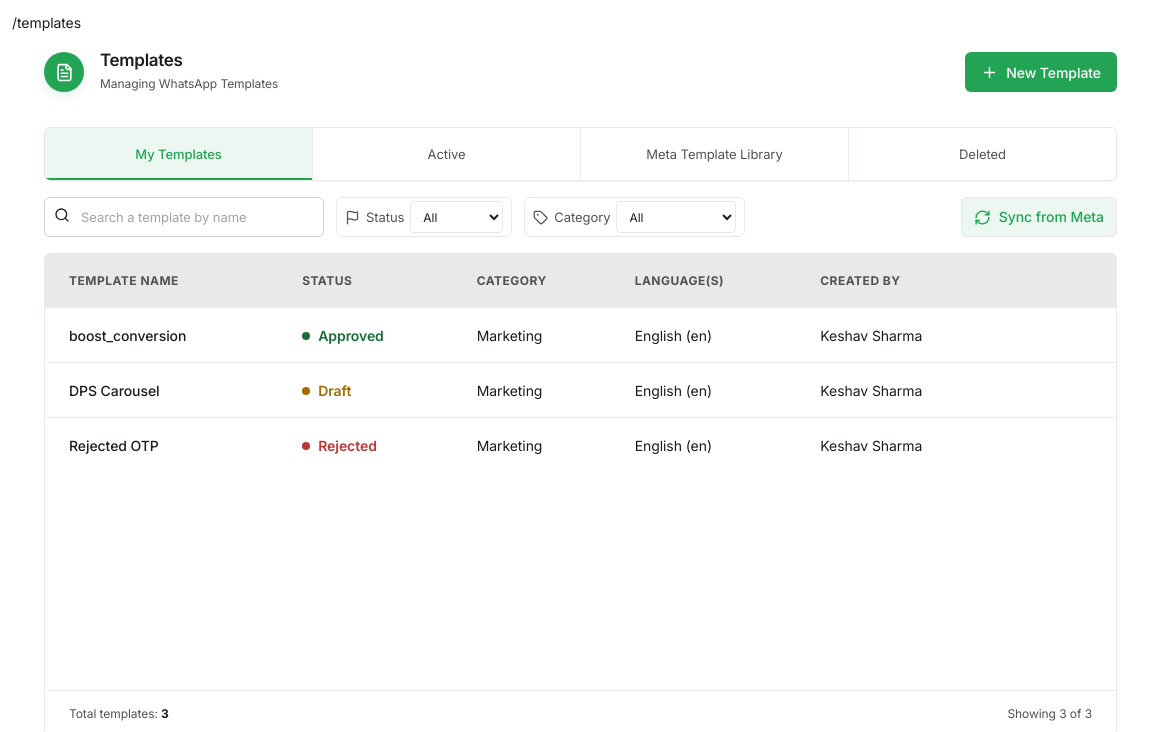
it: Templates › shows the Meta sync diagnostic when no templates are returned
Click the button "Sync from Meta": x=1039, y=217 [961,197,1117,237]
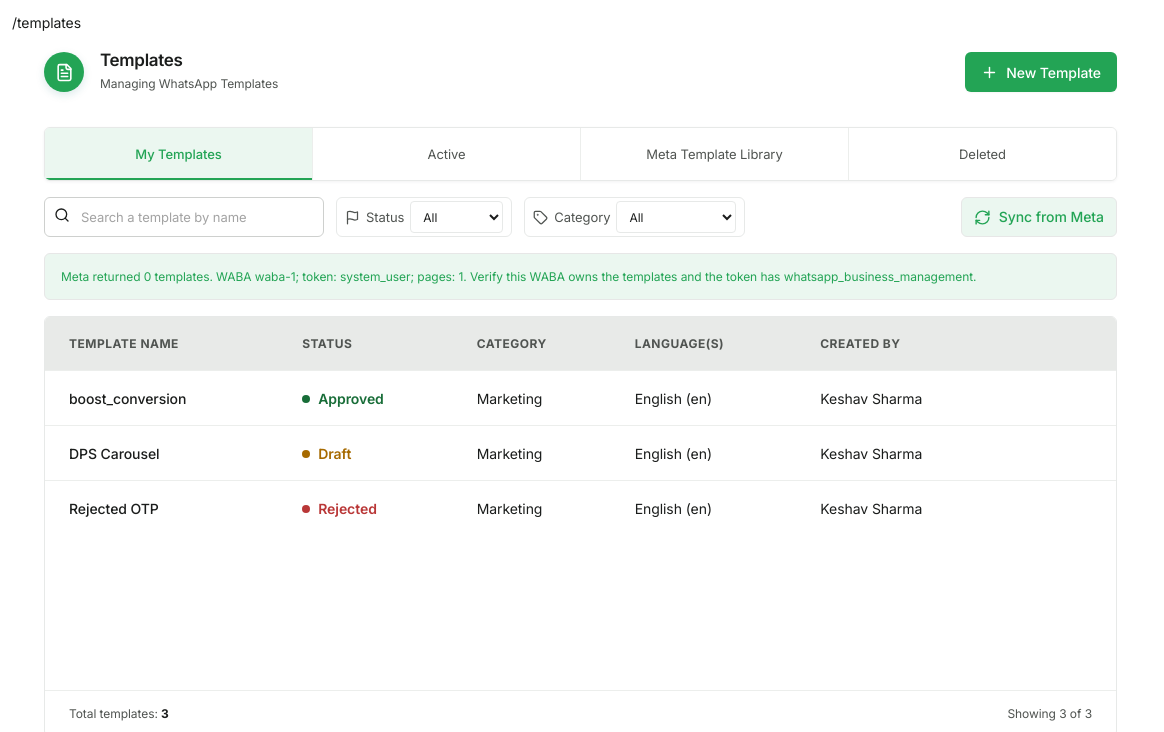
Expected: the message shows "Meta returned 0 templates. WABA waba-1; token: system_user; pages: 1.", [61,269,976,284]
